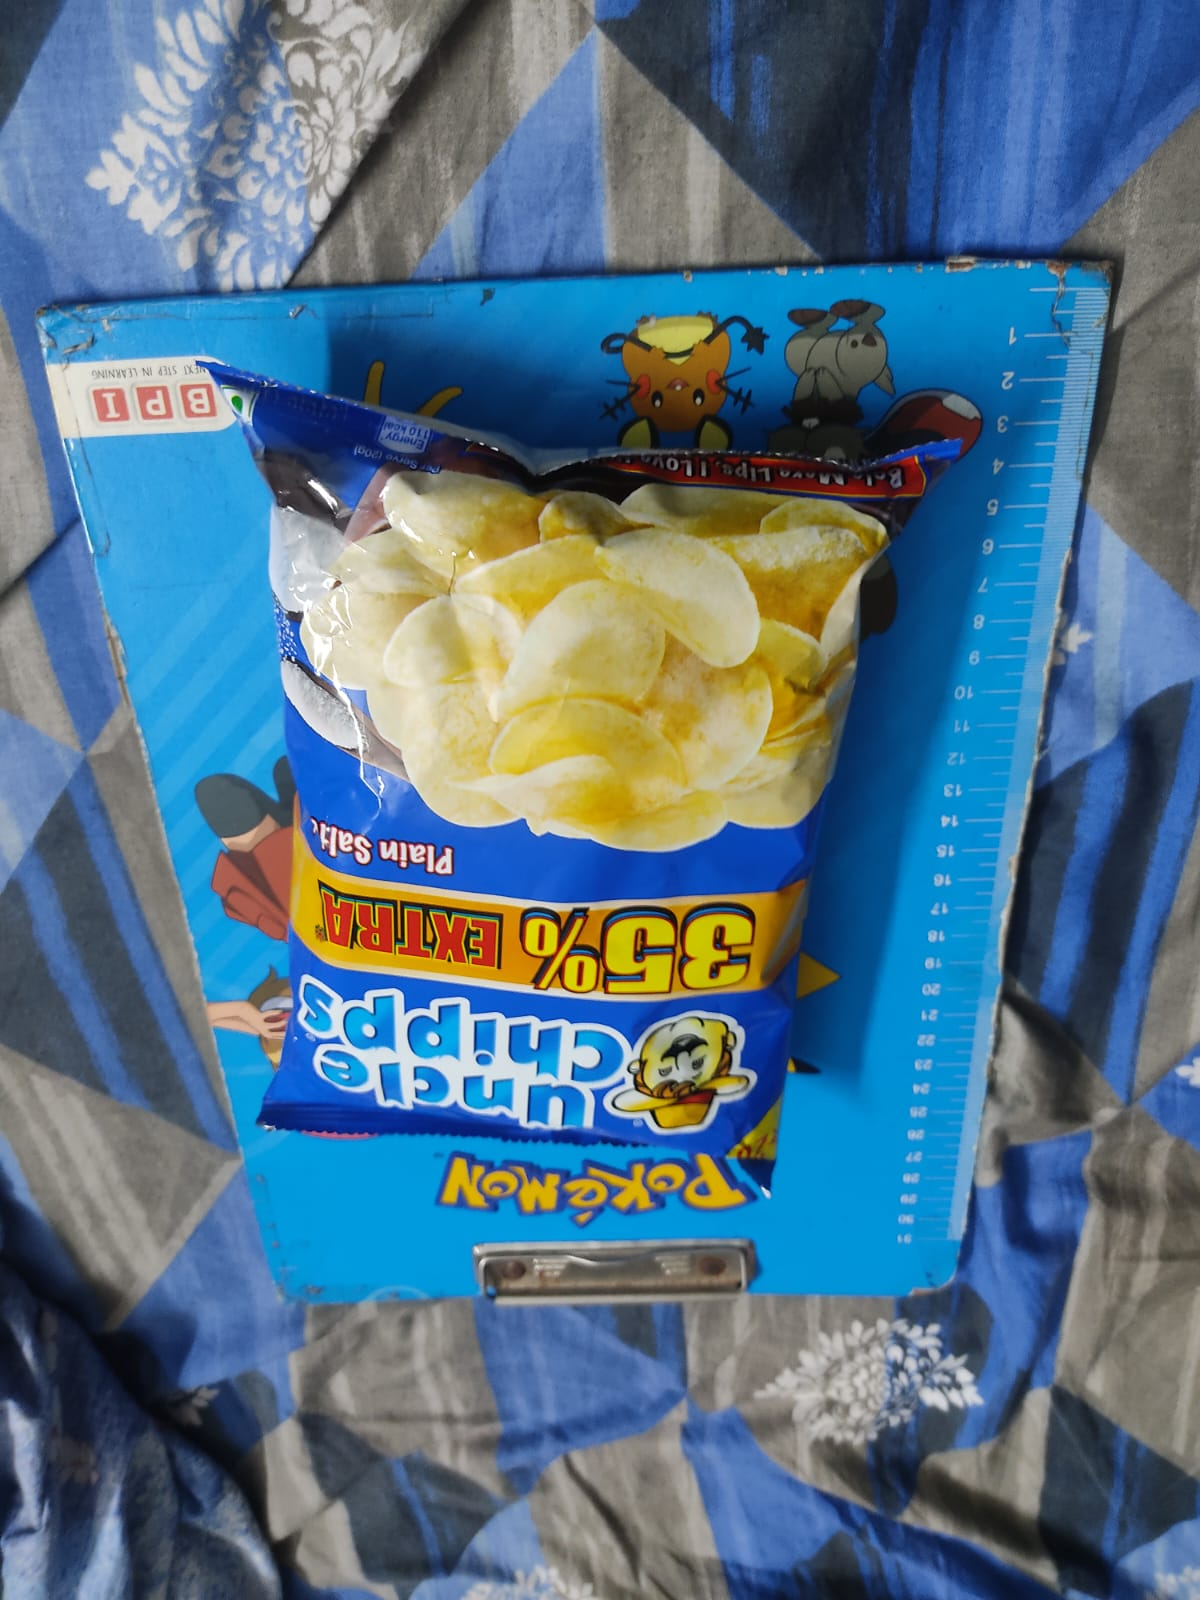020_UncleChips: (255, 414, 852, 1146)
